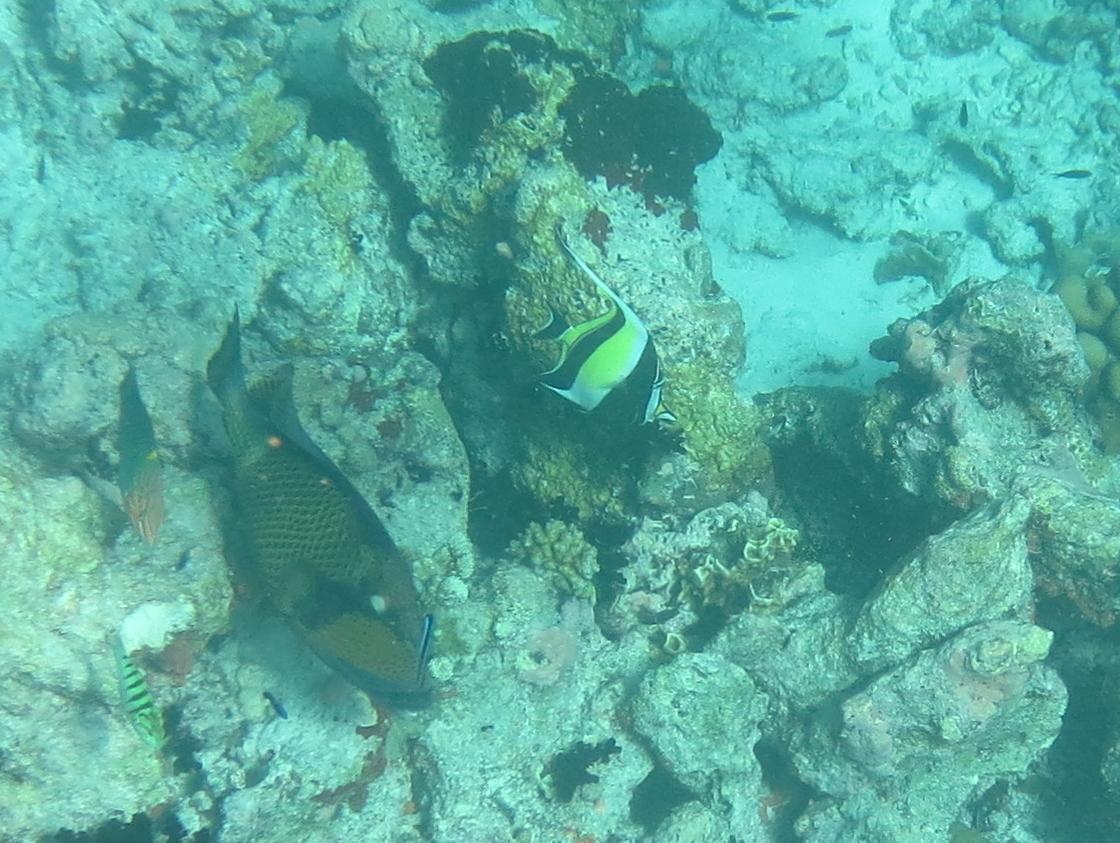Fish: (518, 205, 684, 448)
